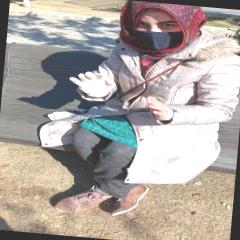gloved: (68, 68, 117, 99)
not-gloved: (144, 95, 168, 120)
